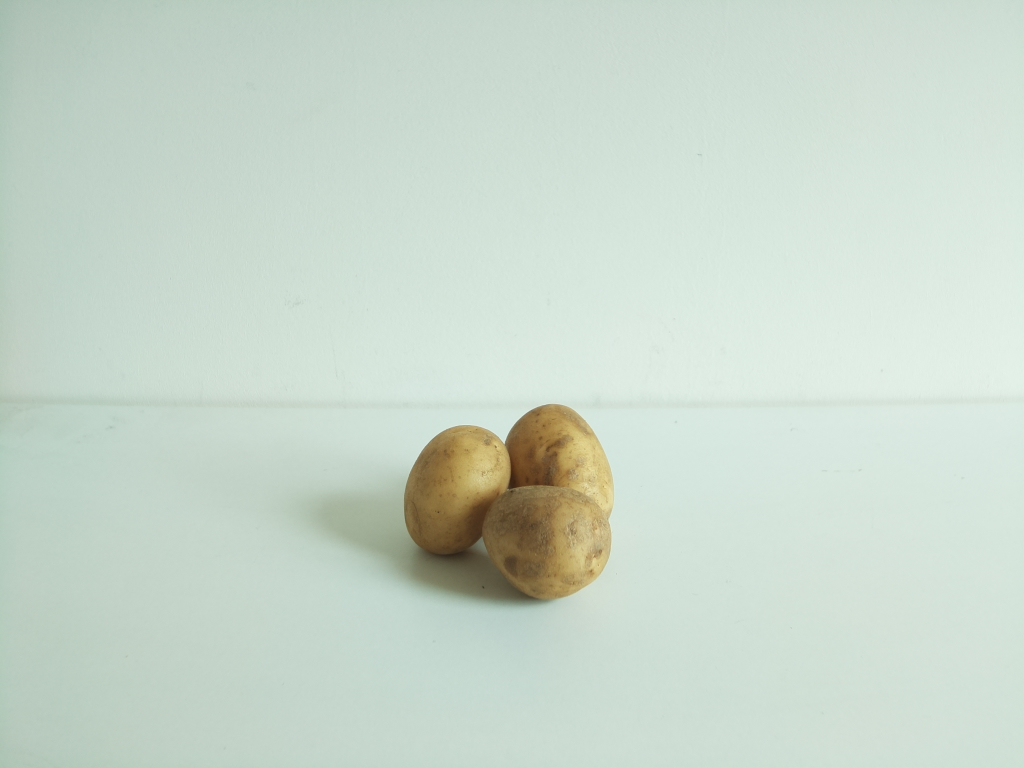potatoes: (403, 401, 615, 603)
